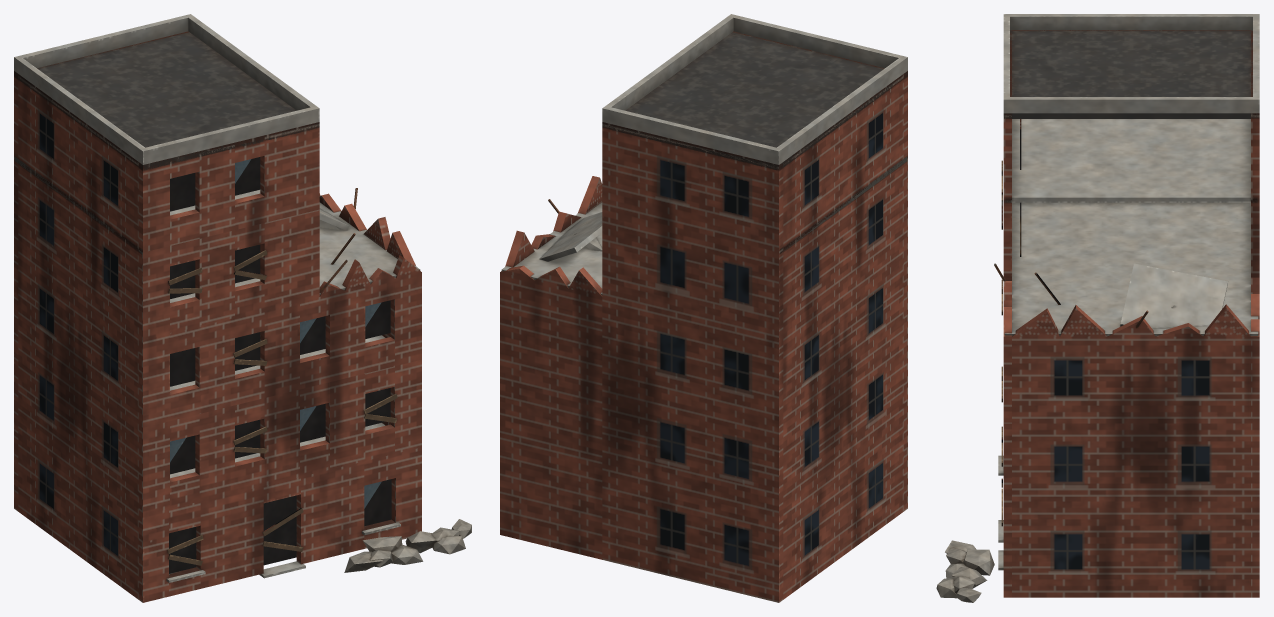
File: Edificio_Bloque.glb
3 renders of one model, left to right at view 1: azimuth 30°, elevation 25°; view 2: azimuth 150°, elevation 25°; view 3: azimuth 270°, elevation 25°, orthographic.
Visible parts, largest first — view 1: Edificio_Bloque; view 2: Edificio_Bloque; view 3: Edificio_Bloque.
Part boxes in pixels (x1,y1,x2,y2): Edificio_Bloque: (14, 14, 471, 602); Edificio_Bloque: (500, 14, 907, 602); Edificio_Bloque: (936, 14, 1259, 602).
Size of the model in its own units: 33.39 by 46.69 by 30.3.
1 material, 1 textured.
